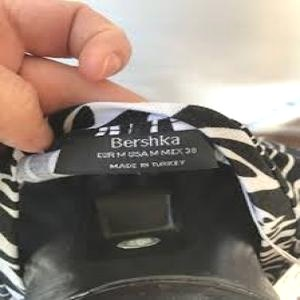bershka: (127, 68, 232, 202)
